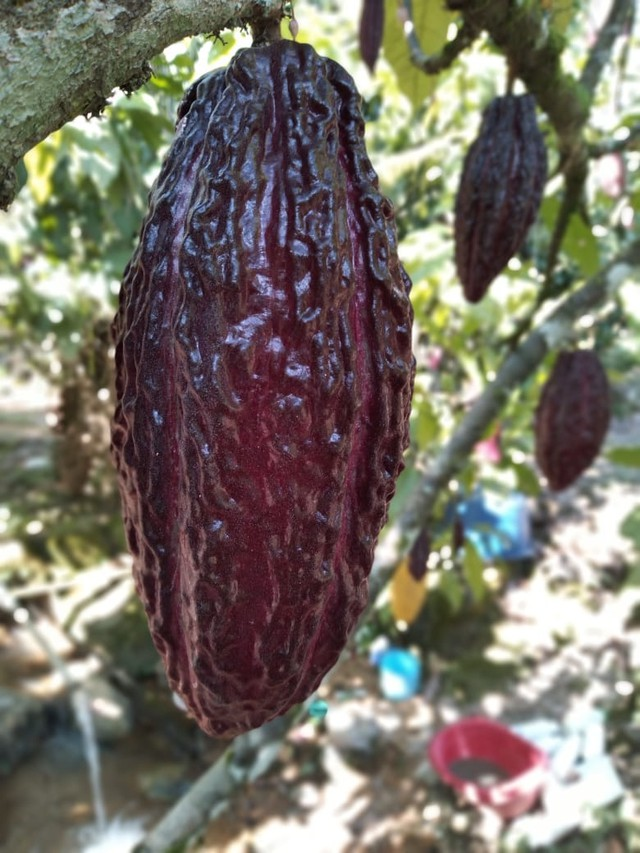Health: (94, 28, 433, 748)
